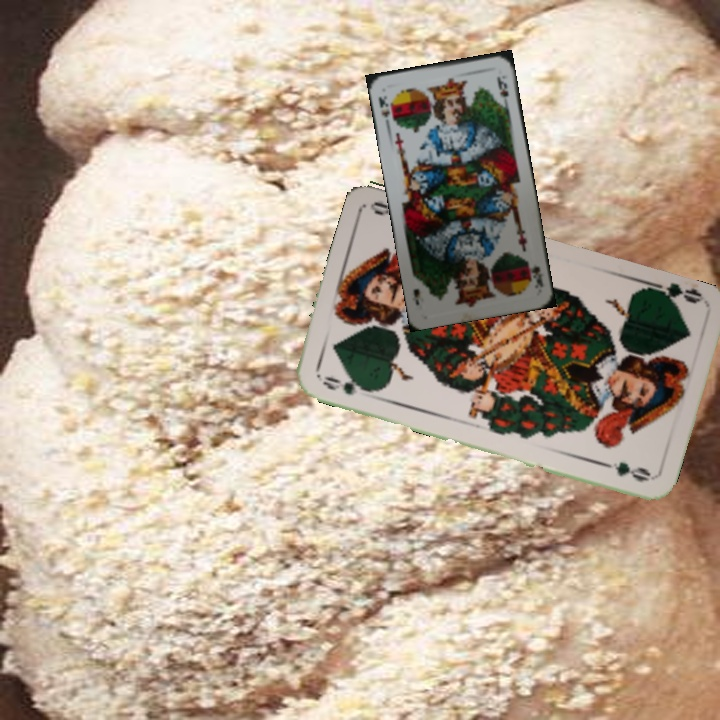GO: (647, 278, 707, 310), (318, 372, 374, 398)
SK: (374, 92, 396, 128), (524, 257, 546, 291)
